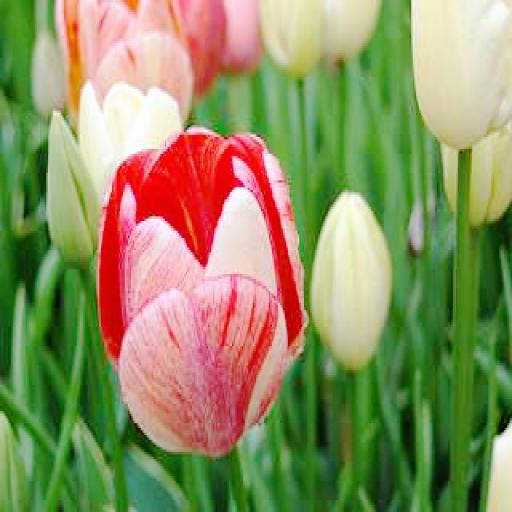tulip: (99, 127, 306, 457)
